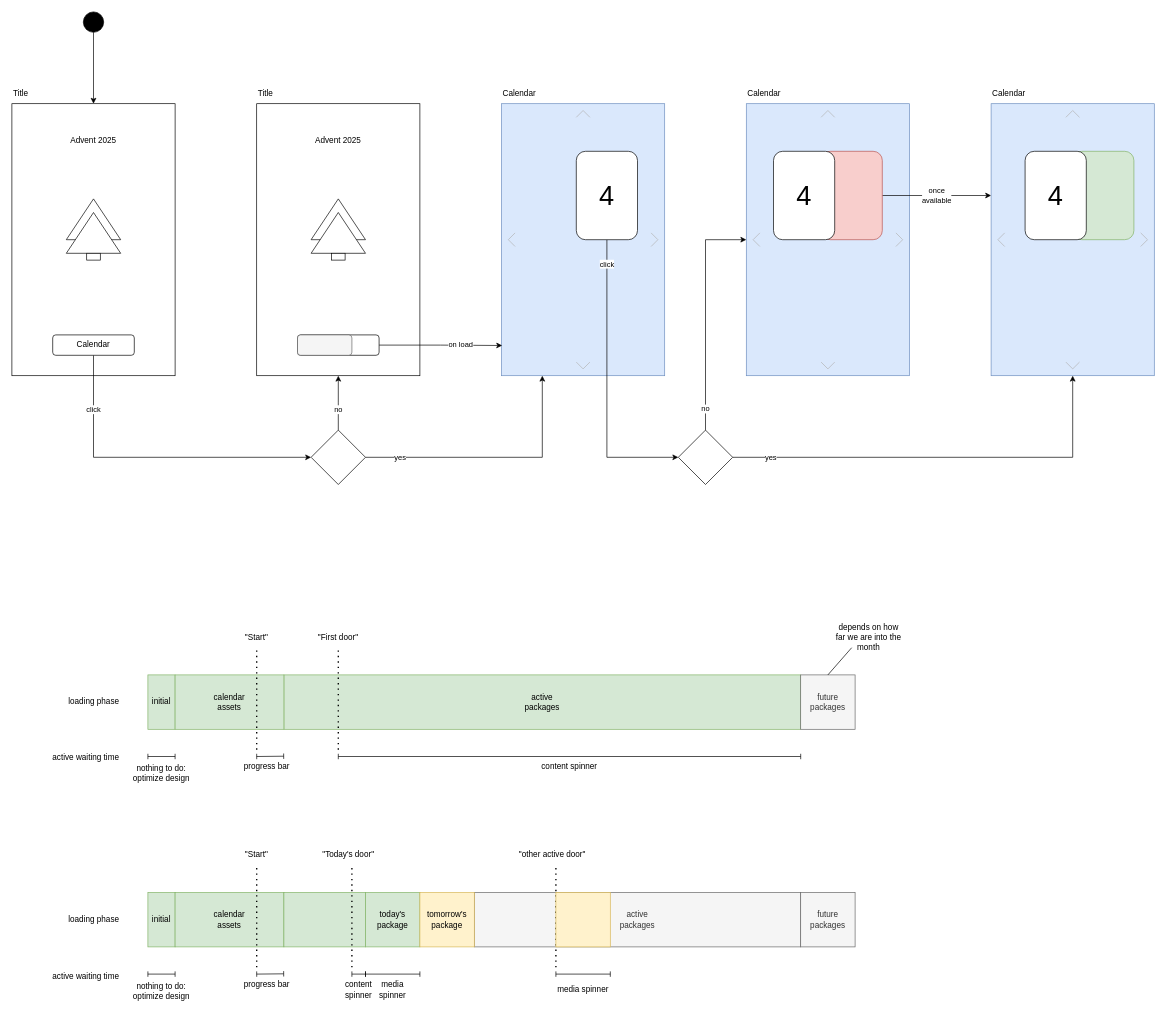
Some shapes in this 1166 by 1020 pixel diagram are drawn without their labels. Here are the shapes that lost their labels. From the top down, the centre of each, then its label:
At point (338, 457): "map loaded?".
At point (705, 457): "resources loaded?".
At point (324, 919): "content thumbnails".
At point (582, 919): "day's package".
